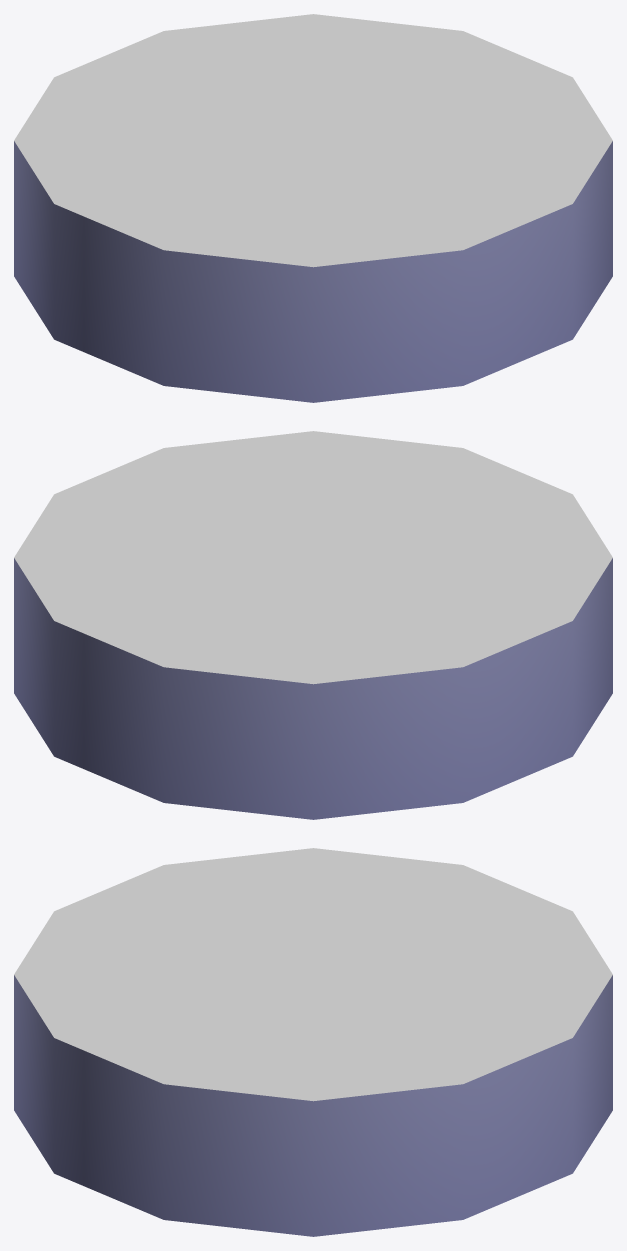
3 views of the same model, one above another, from view 1: azimuth 30°, elevation 25°; view 2: azimuth 150°, elevation 25°; view 3: azimuth 270°, elevation 25° (orthographic).
Visible parts, largest first — view 1: shape-circle; view 2: shape-circle; view 3: shape-circle.
Boxes of the visible parts, box(x1,y1,x2,y2) form: shape-circle: box(14, 14, 612, 402); shape-circle: box(14, 431, 612, 819); shape-circle: box(14, 848, 612, 1236).
Bounding box in the file's own units: 0.25 × 0.0625 × 0.25.
